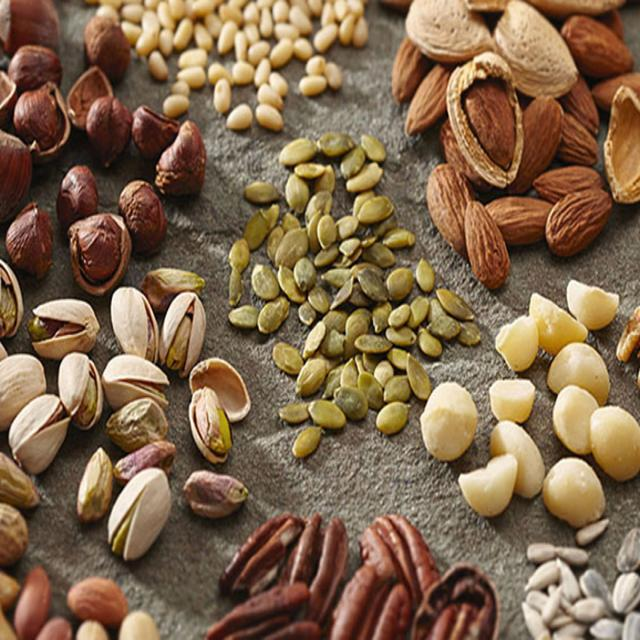Frutta secca: (226, 138, 458, 466), (1, 275, 252, 539), (391, 8, 640, 274), (419, 280, 640, 530), (4, 4, 204, 280)
